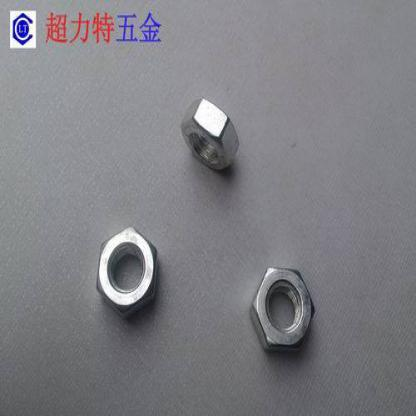FOD: (96, 224, 159, 322), (249, 263, 316, 354), (178, 97, 240, 172)
